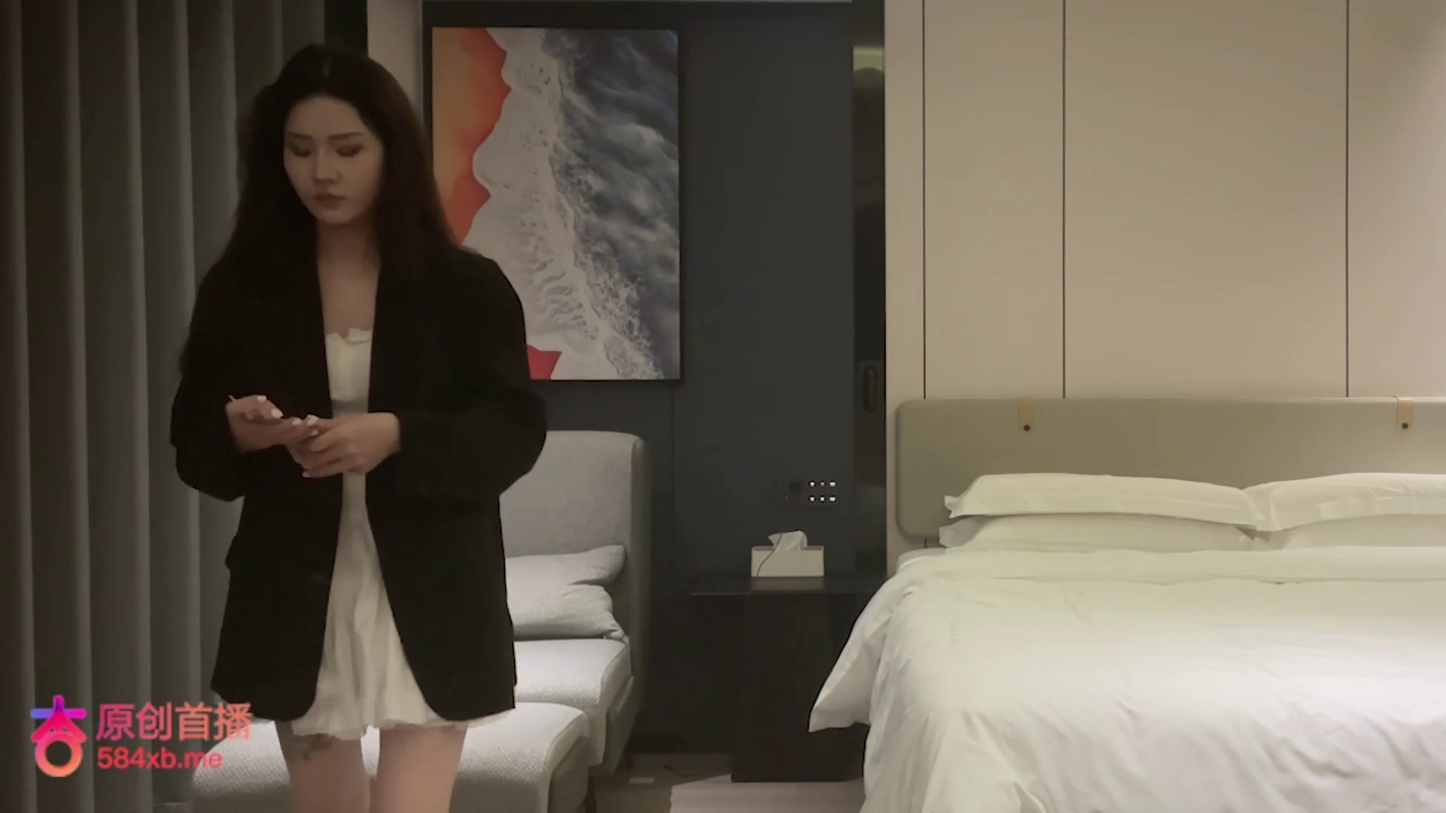stand: (168, 42, 548, 804)
